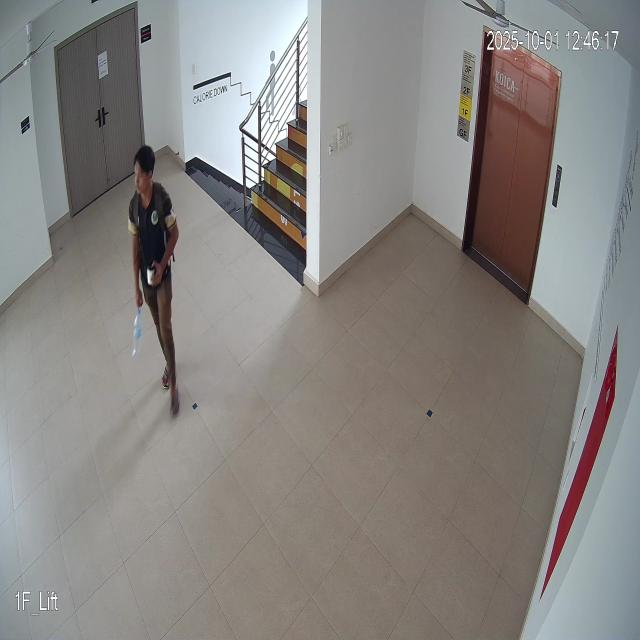face: (128, 146, 160, 202)
